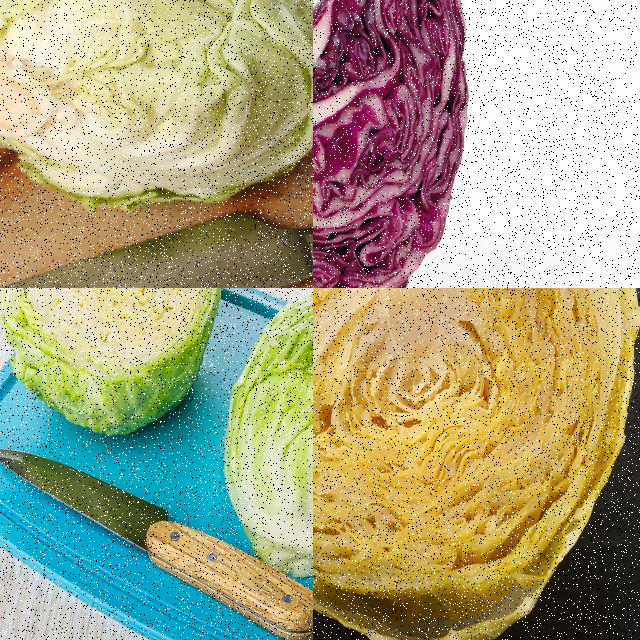cabbage: (313, 288, 639, 639), (0, 0, 312, 221), (313, 0, 473, 287), (0, 288, 225, 439), (220, 288, 312, 580)
